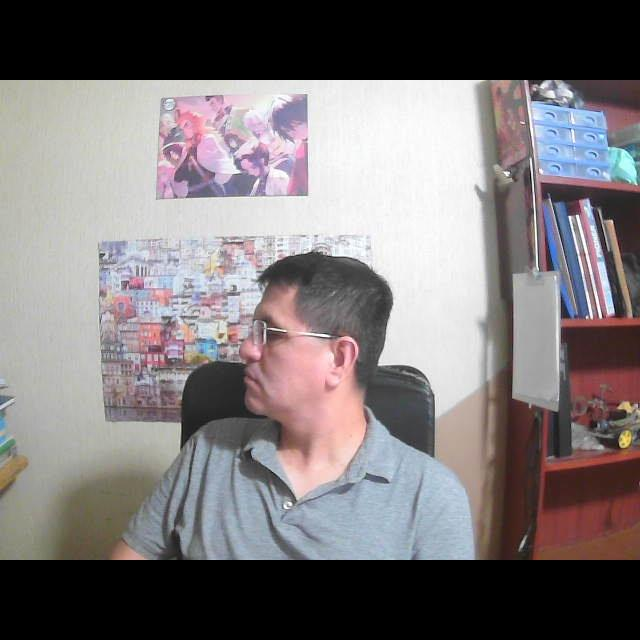cesar: (220, 240, 402, 464)
